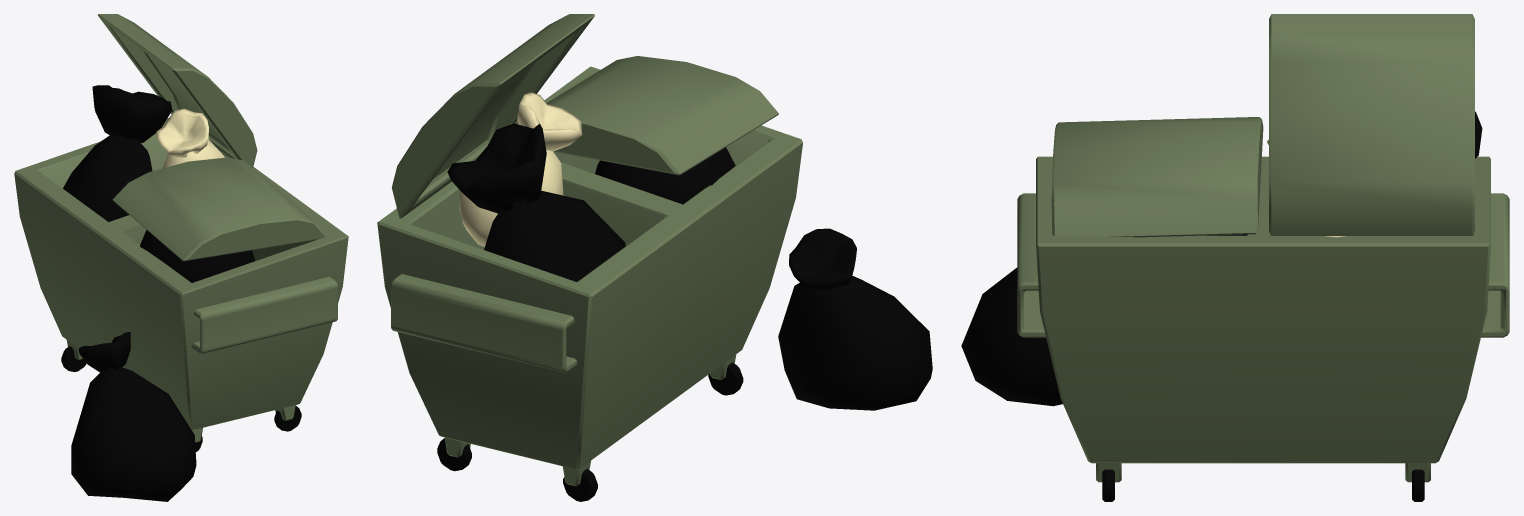
Rendered from Dumpster.glb.
The picture shows the model from 3 angles, left to right: view 1: azimuth 30°, elevation 25°; view 2: azimuth 150°, elevation 25°; view 3: azimuth 270°, elevation 25°; orthographic projection. The views are drawn at different scales.
Parts seen in each view (by area): view 1: Dumpster; view 2: Dumpster; view 3: Dumpster.
Part boxes in pixels (left/top/right/bottom): Dumpster: left=14, top=14, right=348, bottom=501; Dumpster: left=377, top=14, right=932, bottom=501; Dumpster: left=961, top=14, right=1509, bottom=501.
Bounding box in the file's own units: 1.63 × 1.92 × 2.12.
1 material, 1 textured.
